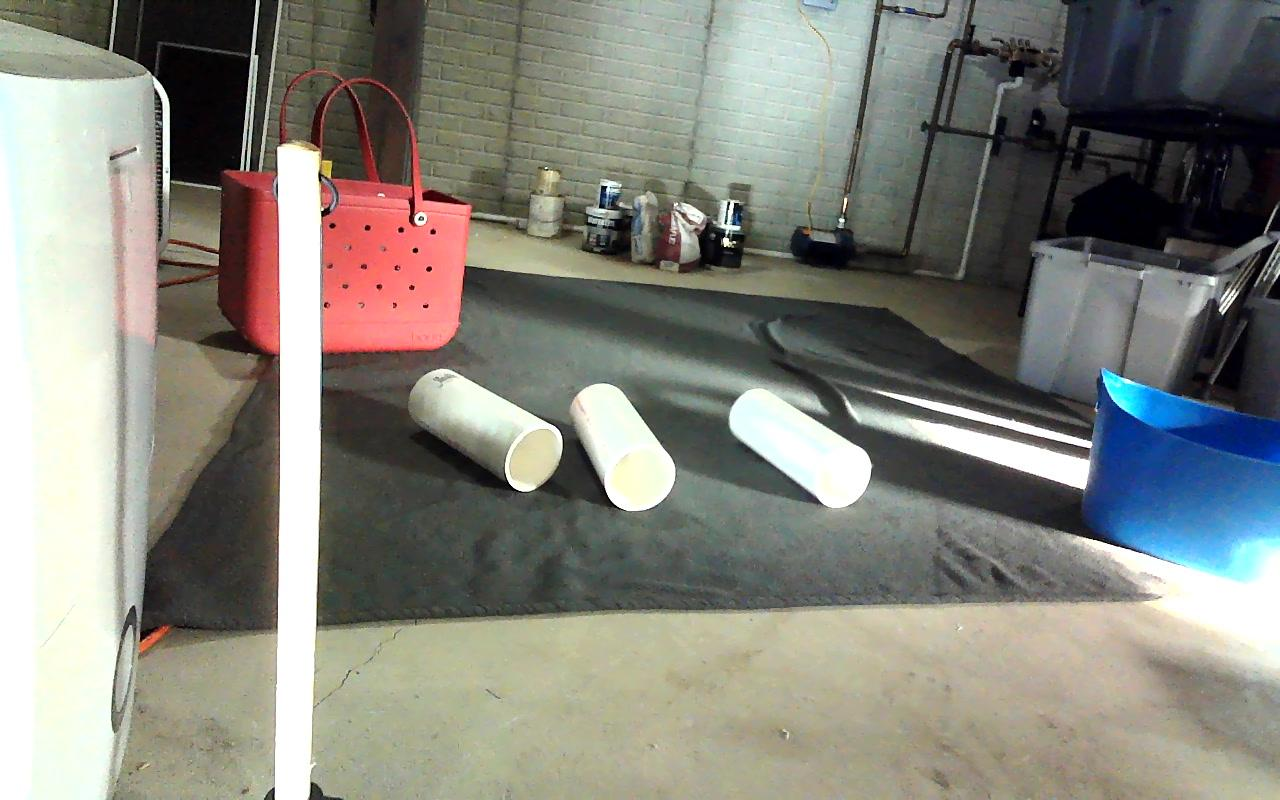coral: (407, 369, 564, 490), (728, 389, 871, 508), (571, 383, 674, 509)
